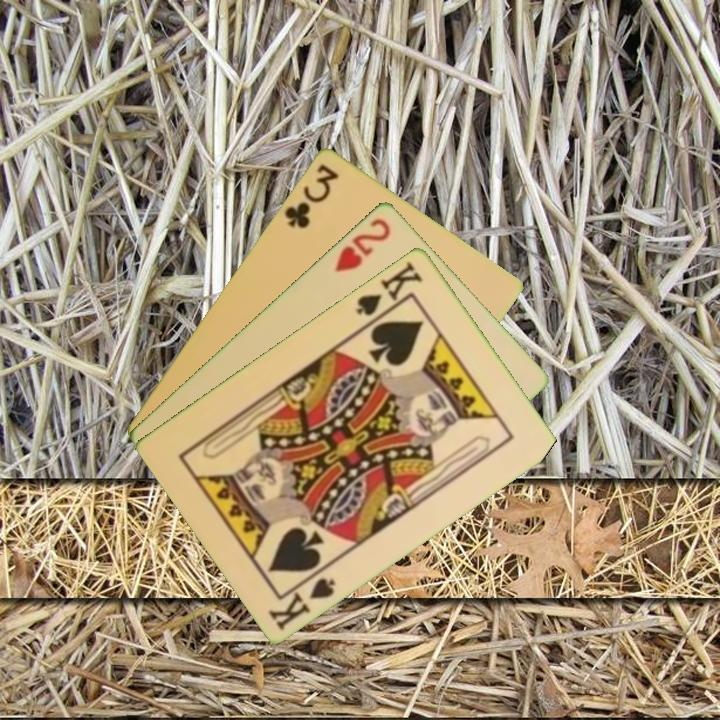2h: (331, 214, 394, 275)
3c: (280, 160, 342, 231)
Ks: (352, 256, 426, 327), (265, 563, 339, 633)
